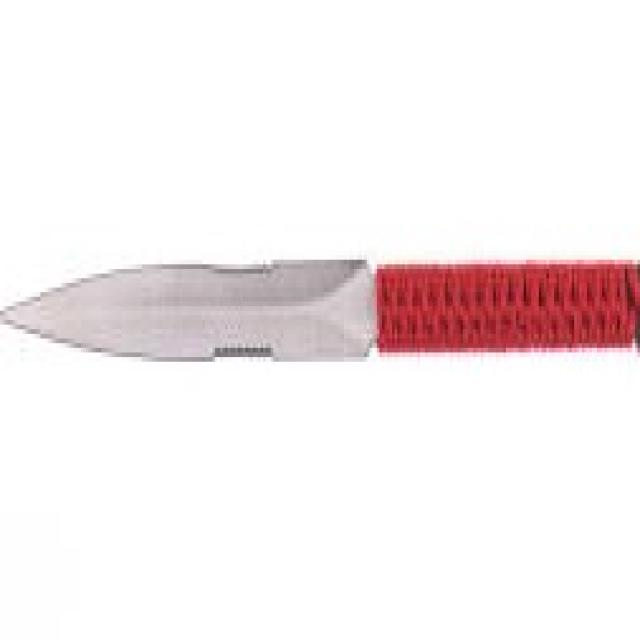knife: (1, 242, 640, 442)
